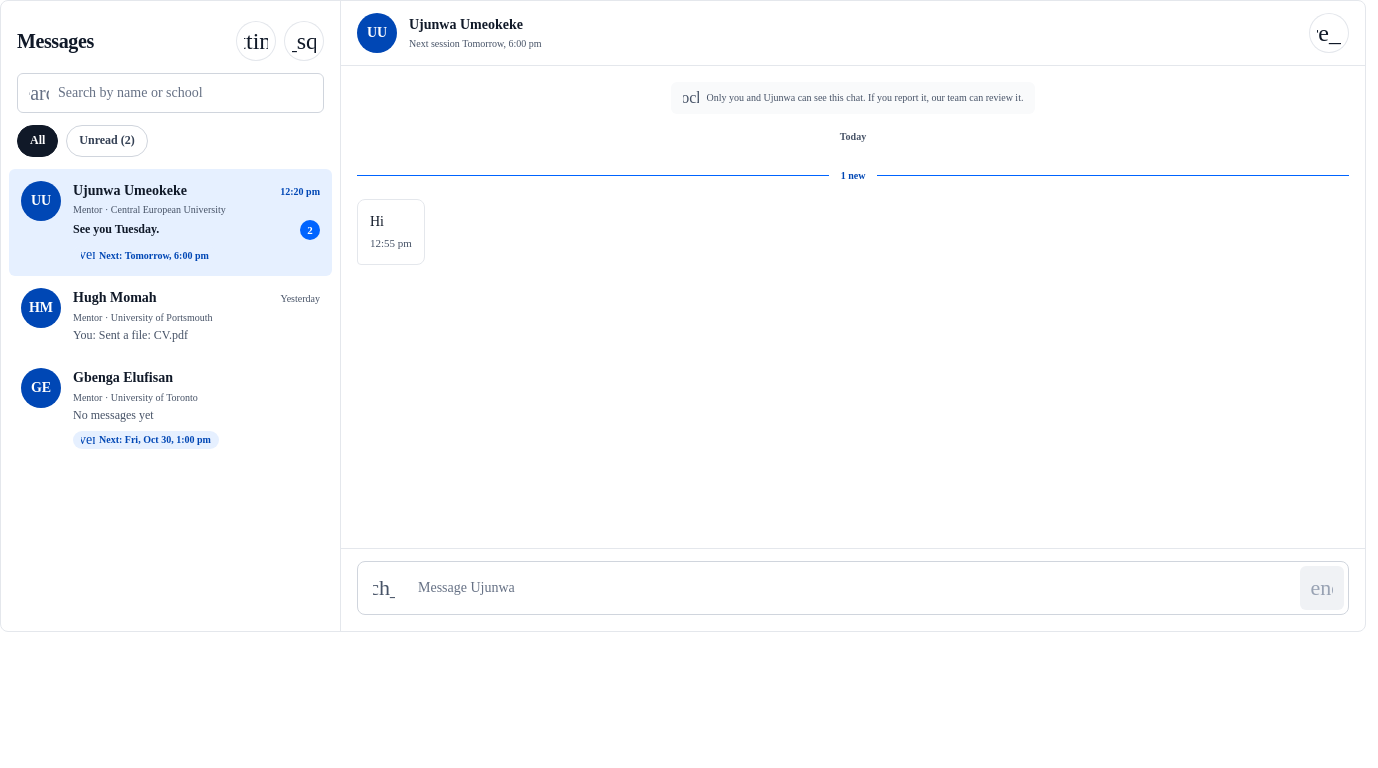
it: the composer › contact details show the notice, which never blocks sending
In the text box labelled "Message Ujunwa": (853, 588) [414,566,1292,610], type "Mail me at a@b.co"
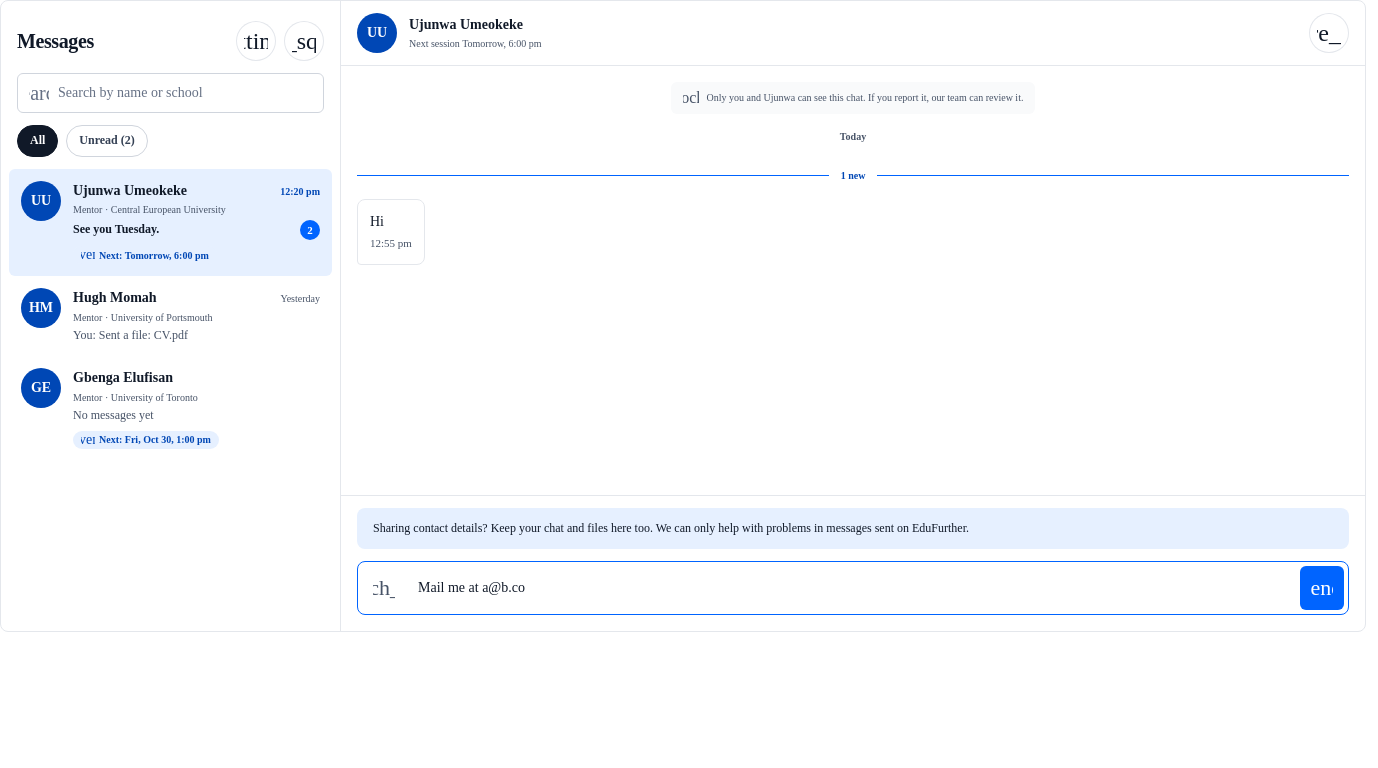
Expected: the text "Sharing contact details? Keep your chat and files here too." is shown, [373,521,969,535]
Expected: the button "send" is enabled, [1300,566,1344,610]
